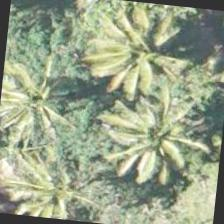Kelapa_Sawit: (90, 3, 189, 102), (118, 92, 217, 190), (15, 147, 114, 223), (0, 58, 66, 155)
